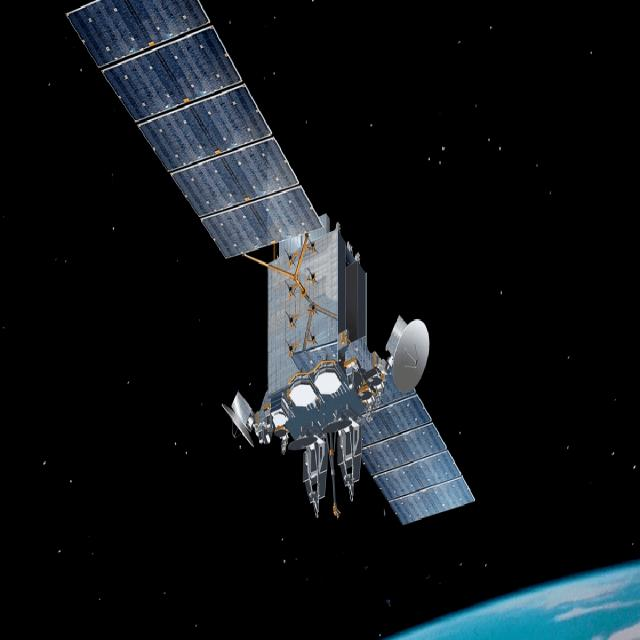medium_debris: (60, 1, 488, 536)
